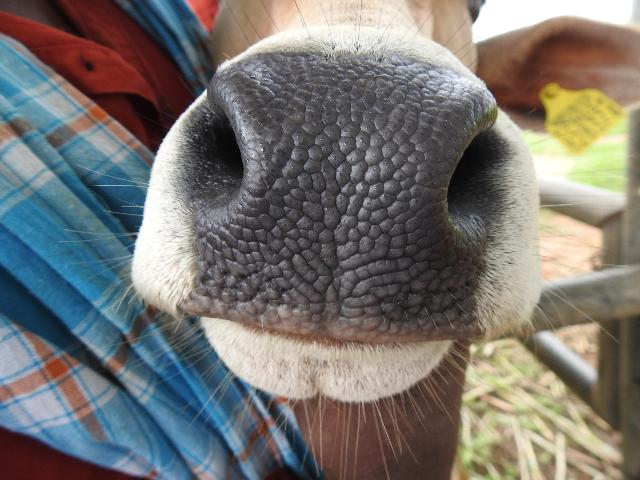Muzzle: (216, 68, 447, 332)
